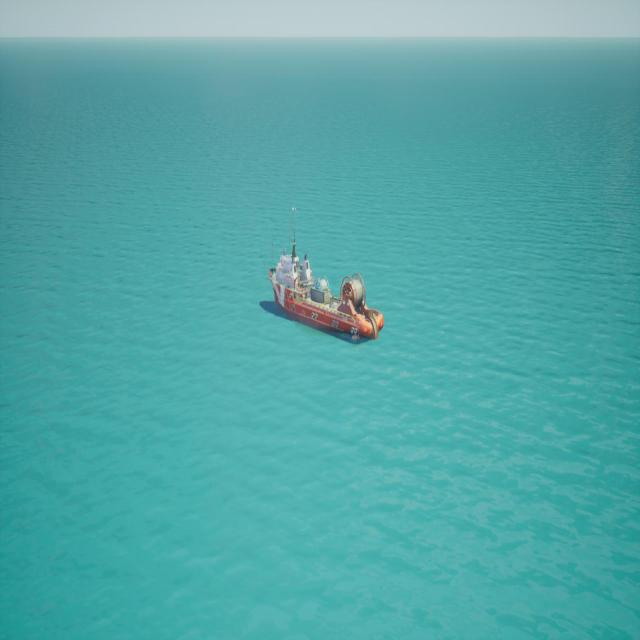tug boat: (261, 207, 382, 348)
